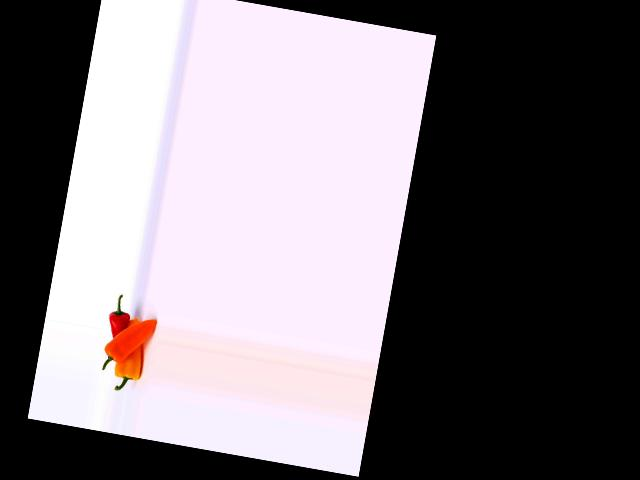bell_pepper: (107, 334, 152, 397)
